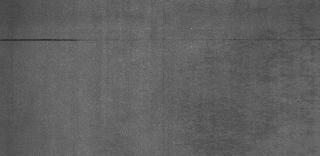scratches: (6, 33, 314, 53)
